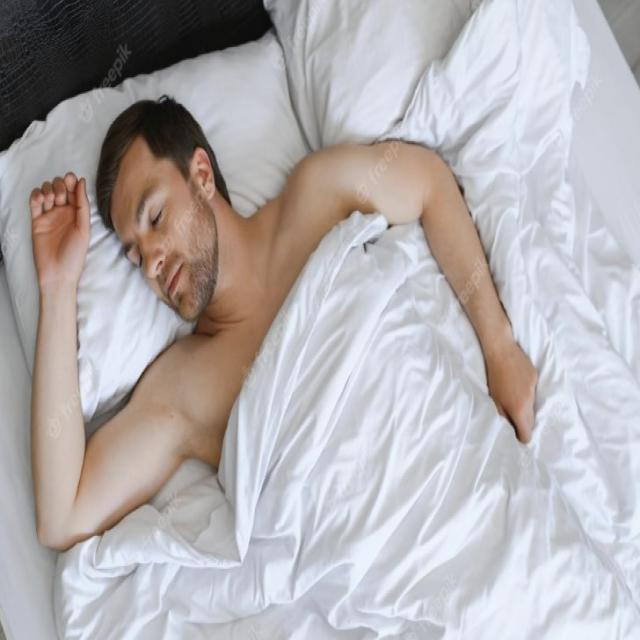sleeping-person: (23, 72, 640, 640)
